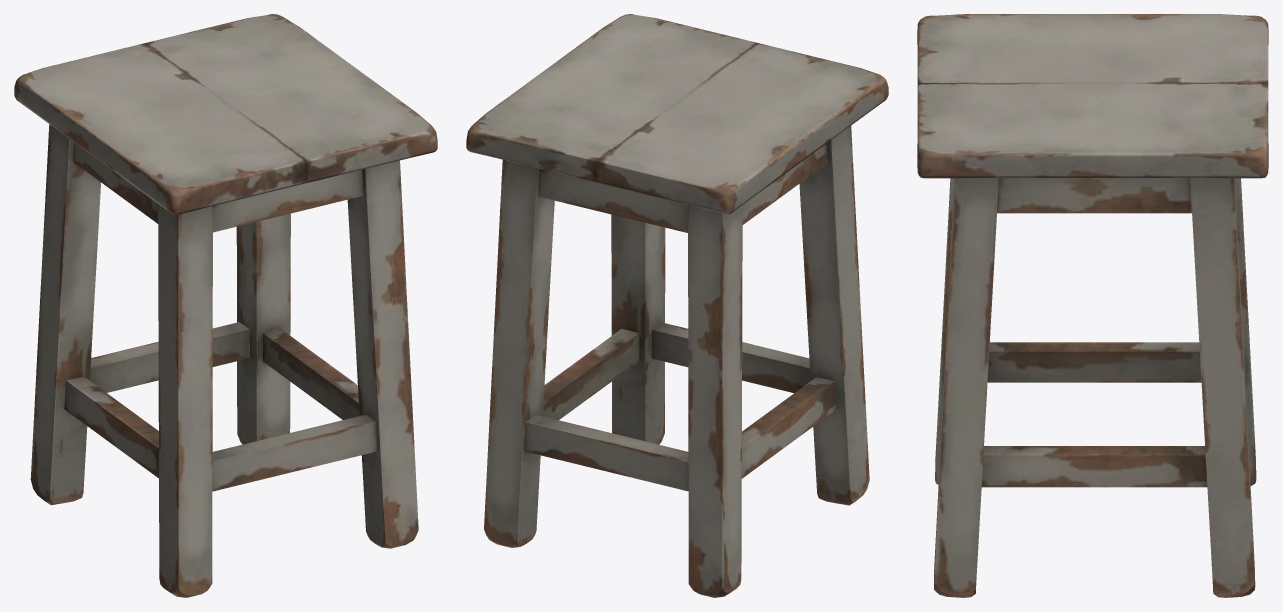
Rendered from m_painted_wooden_stool.glb.
3 views of the same model, side by side, from view 1: azimuth 30°, elevation 25°; view 2: azimuth 150°, elevation 25°; view 3: azimuth 270°, elevation 25° (orthographic). The views are drawn at different scales.
Parts seen in each view (by area): view 1: painted_wooden_stool; view 2: painted_wooden_stool; view 3: painted_wooden_stool.
Part boxes in pixels (x1,y1,x2,y2): painted_wooden_stool: (14,14,437,597); painted_wooden_stool: (466,14,888,597); painted_wooden_stool: (917,14,1268,597).
Bounding box in the file's own units: 0.3848 × 0.5789 × 0.406.
Materials: 1 (1 with a texture image).
